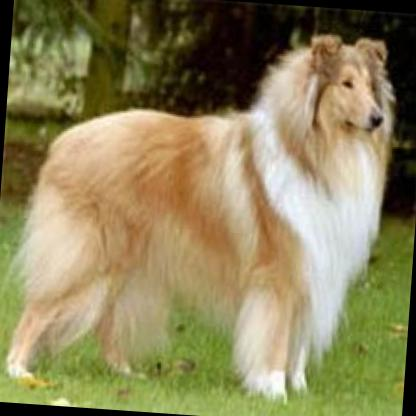collie: (2, 11, 399, 411)
